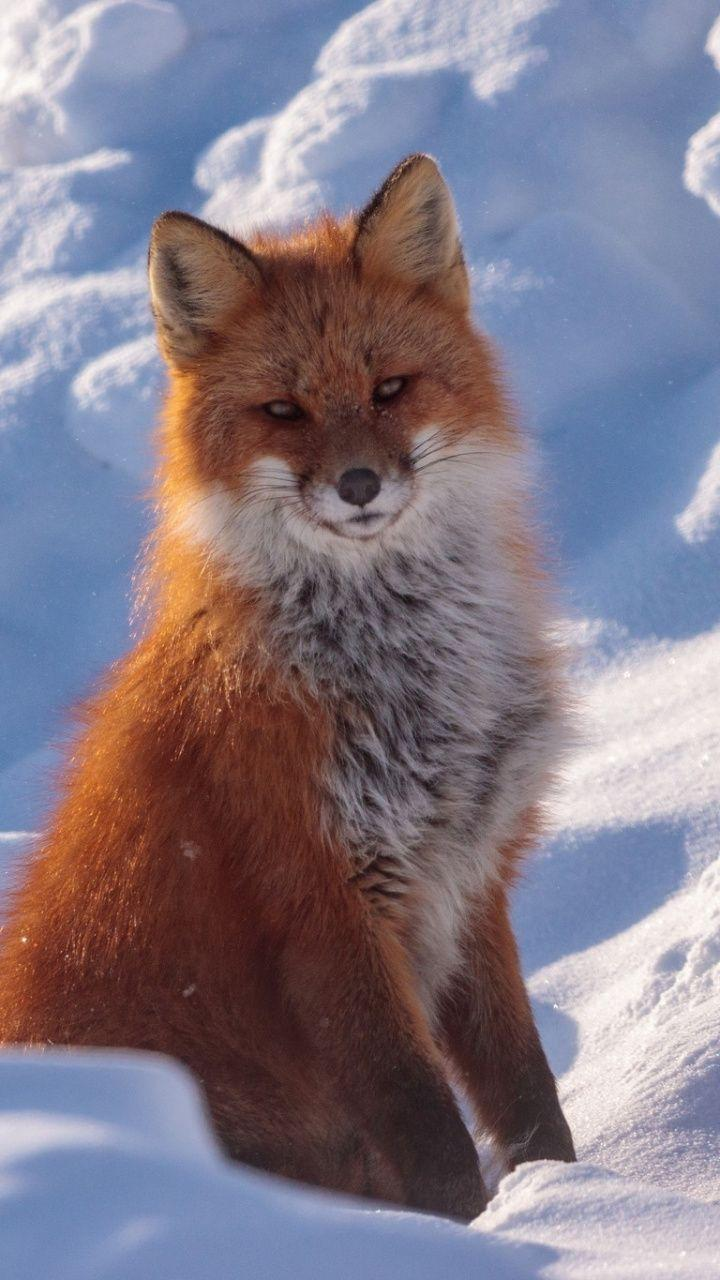fox: (0, 152, 589, 1213)
